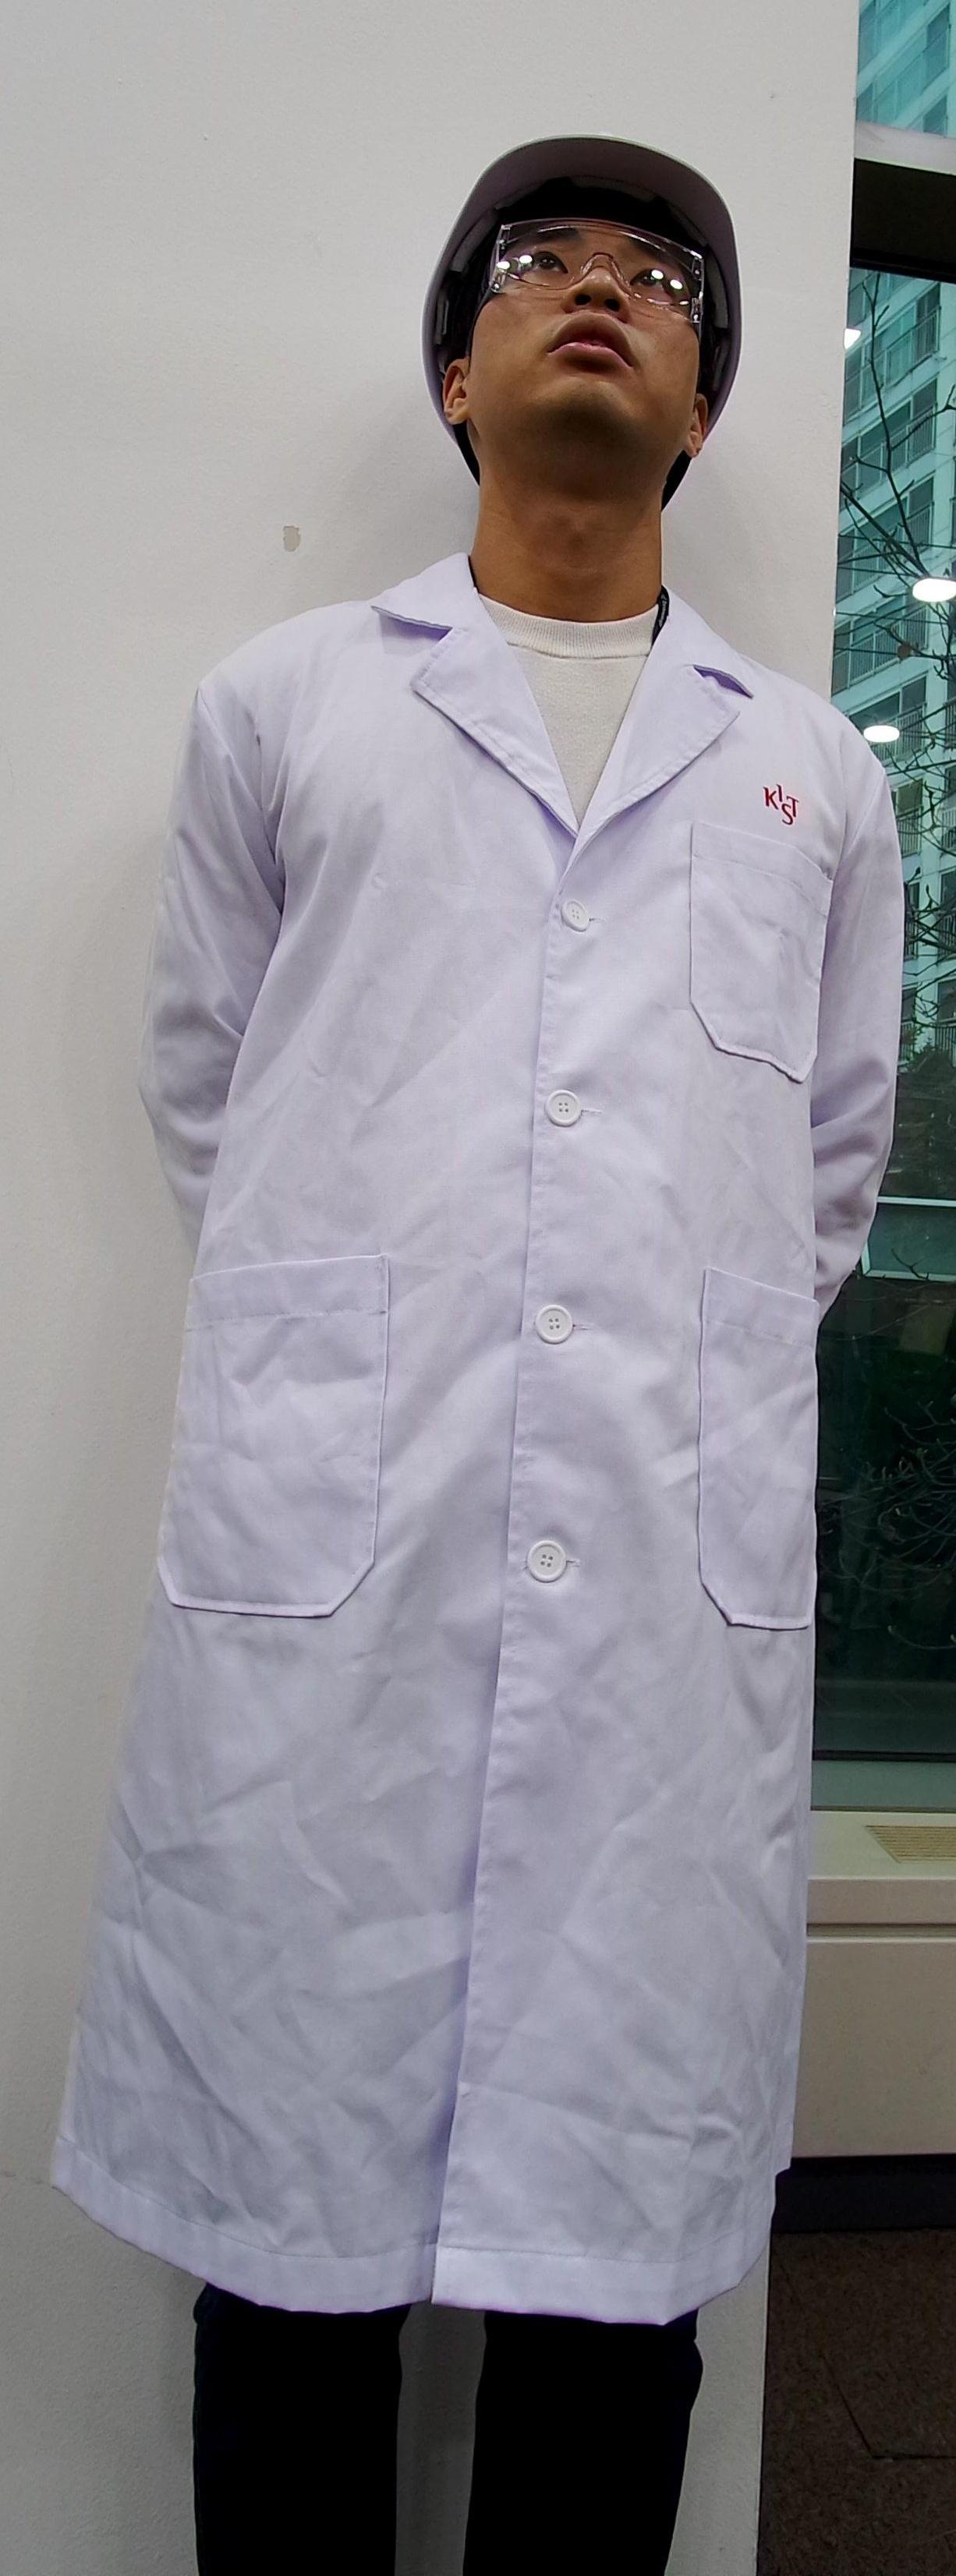lab_coat: (103, 632, 910, 2290)
